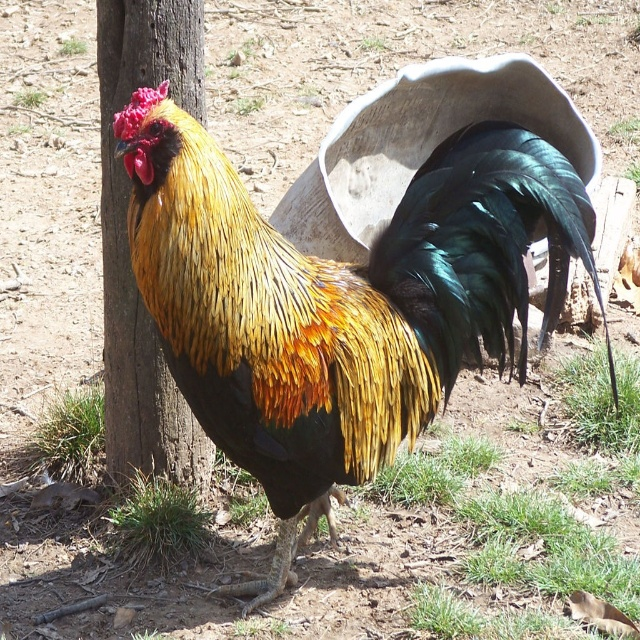Chicken: (112, 74, 616, 614)
